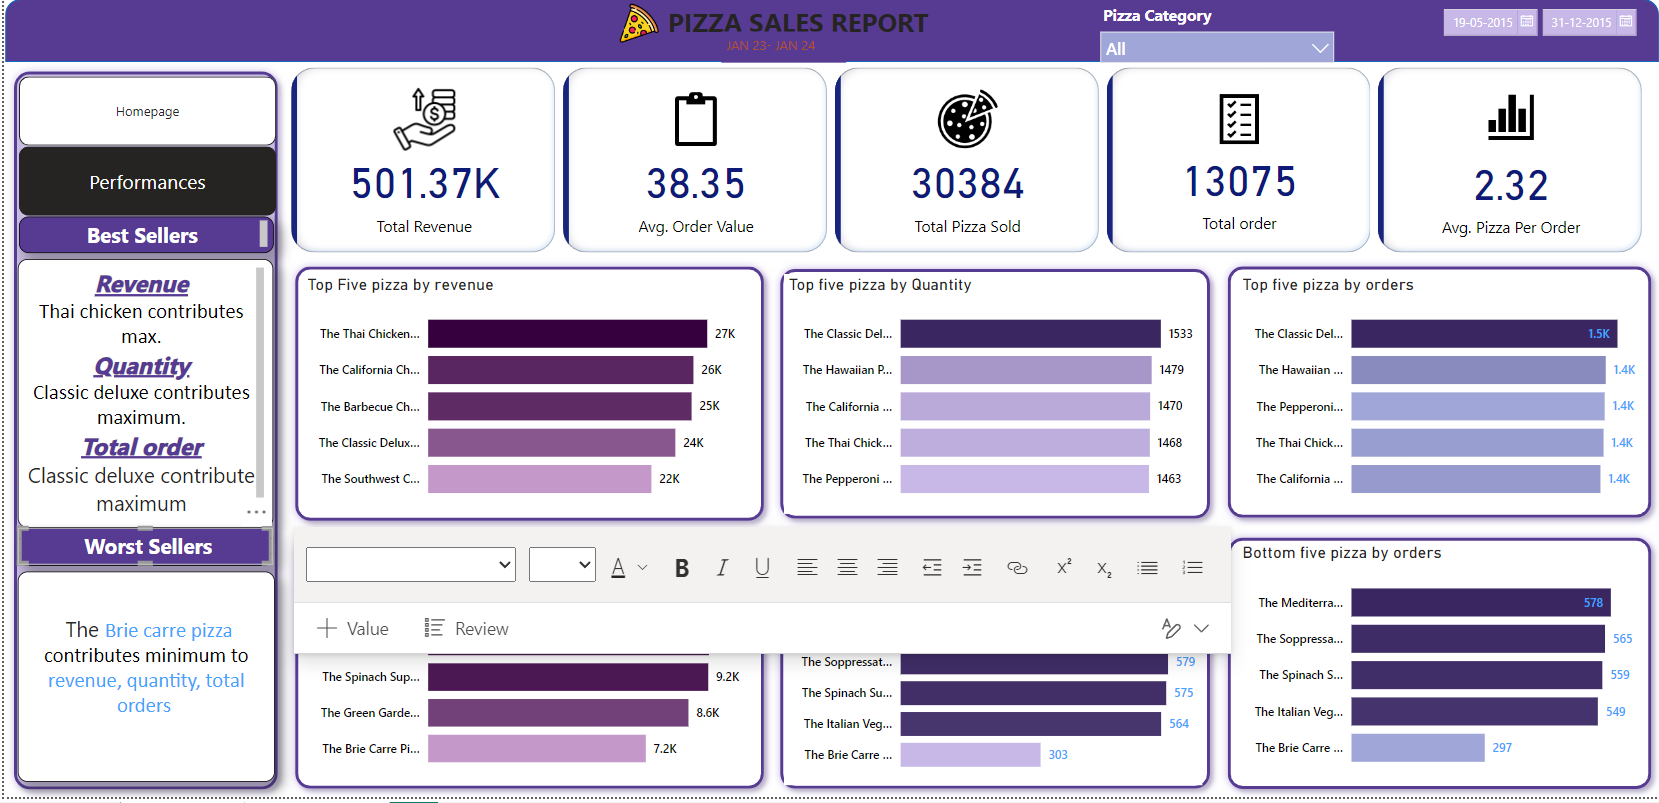

This screenshot's page, from the dashboard's own definition file:
{"tool":"powerbi","page":{"name":"Performances","canvas":[1700,820],"ordinal":1},"visuals":[{"type":"cardVisual","fields":{"Data":["pizza_sales.Total Revenue","pizza_sales.Avg. Order Value","pizza_sales.Total Pizza Sold","pizza_sales.Total order","pizza_sales.Avg. Pizza Per Order"]},"box":[290.3,65.9,1401.2,200.6],"z":0},{"type":"shape","box":[1.8,0,1698.2,64.7],"z":1000},{"type":"textbox","box":[635.1,0,360.7,51.5],"z":2000},{"type":"image","box":[466.5,0,373.2,50.1],"z":3000},{"type":"textbox","box":[736.7,33.4,128.1,32],"z":4000},{"type":"shape","box":[1.6,65.4,288.6,740],"z":5000},{"type":"textbox","box":[15.1,223.4,261.2,37.9],"z":6000},{"type":"textbox","box":[14,266.5,262.3,276.3],"z":7000},{"type":"textbox","box":[14,542.8,262.3,39.3],"z":8000},{"type":"textbox","box":[14,587.7,263.7,206.2],"z":9000},{"type":"slicer","fields":{"Values":["pizza_sales.order_date"]},"box":[1465.3,0,234.7,64.7],"z":10000},{"type":"slicer","fields":{"Values":["pizza_sales.pizza_category"]},"box":[1116.1,0,260.5,66.5],"z":11000},{"type":"shape","box":[290.2,266.3,499.2,279.1],"z":12000},{"type":"shape","box":[290.2,545.4,499.2,274.3],"z":13000},{"type":"shape","box":[787.8,267.9,459.3,274.3],"z":14000},{"type":"shape","box":[1247.1,266.3,452.9,275.9],"z":15000},{"type":"shape","box":[787.8,545.4,459.3,274.3],"z":16000},{"type":"shape","box":[1247.1,543.8,452.9,275.9],"z":17000},{"type":"barChart","title":"Top Five pizza by revenue","fields":{"Category":["pizza_sales.pizza_name"],"Y":["pizza_sales.Total Revenue"]},"box":[306.7,282.1,463.8,246.1],"z":18000},{"type":"barChart","title":"Bottom five pizza by revenue","fields":{"Category":["pizza_sales.pizza_name"],"Y":["pizza_sales.Total Revenue"]},"box":[306.7,562.2,463.8,246.1],"z":19000},{"type":"barChart","title":"Top five pizza by Quantity","fields":{"Category":["pizza_sales.pizza_name"],"Y":["pizza_sales.Total Pizza Sold"]},"box":[800.8,282.1,429.7,246.1],"z":20000},{"type":"barChart","title":"Bottom five pizza by Quantity","fields":{"Category":["pizza_sales.pizza_name"],"Y":["pizza_sales.Total Pizza Sold"]},"box":[800.8,560.4,429.7,246.1],"z":21000},{"type":"barChart","title":"Top five pizza by orders","fields":{"Category":["pizza_sales.pizza_name"],"Y":["pizza_sales.Total order"]},"box":[1266.5,282.1,414.6,246.1],"z":22000},{"type":"barChart","title":"Bottom five pizza by orders","fields":{"Category":["pizza_sales.pizza_name"],"Y":["pizza_sales.Total order"]},"box":[1266.5,558.5,414.6,246.1],"z":23000},{"type":"pageNavigator","box":[15.1,79.5,264,71.9],"z":24000},{"type":"pageNavigator","box":[15.1,151.4,264,71.9],"z":25000}]}

Visuals, with their boxes on the page's 1700x820 design canvas (x1, y1, x2, y2). These are canvas units, not pixel positions in the 1659x803 screenshot, which may show the page scaled, cropped or inside an application window:
cardVisual - pizza_sales.Total Revenue x pizza_sales.Avg. Order Value: l=290, t=66, r=1692, b=266
shape: l=2, t=0, r=1700, b=65
textbox: l=635, t=0, r=996, b=52
image: l=466, t=0, r=840, b=50
textbox: l=737, t=33, r=865, b=65
shape: l=2, t=65, r=290, b=805
textbox: l=15, t=223, r=276, b=261
textbox: l=14, t=266, r=276, b=543
textbox: l=14, t=543, r=276, b=582
textbox: l=14, t=588, r=278, b=794
slicer - pizza_sales.order_date: l=1465, t=0, r=1700, b=65
slicer - pizza_sales.pizza_category: l=1116, t=0, r=1377, b=66
shape: l=290, t=266, r=789, b=545
shape: l=290, t=545, r=789, b=820
shape: l=788, t=268, r=1247, b=542
shape: l=1247, t=266, r=1700, b=542
shape: l=788, t=545, r=1247, b=820
shape: l=1247, t=544, r=1700, b=820
"Top Five pizza by revenue" barChart: l=307, t=282, r=770, b=528
"Bottom five pizza by revenue" barChart: l=307, t=562, r=770, b=808
"Top five pizza by Quantity" barChart: l=801, t=282, r=1230, b=528
"Bottom five pizza by Quantity" barChart: l=801, t=560, r=1230, b=806
"Top five pizza by orders" barChart: l=1266, t=282, r=1681, b=528
"Bottom five pizza by orders" barChart: l=1266, t=558, r=1681, b=805
pageNavigator: l=15, t=80, r=279, b=151
pageNavigator: l=15, t=151, r=279, b=223
